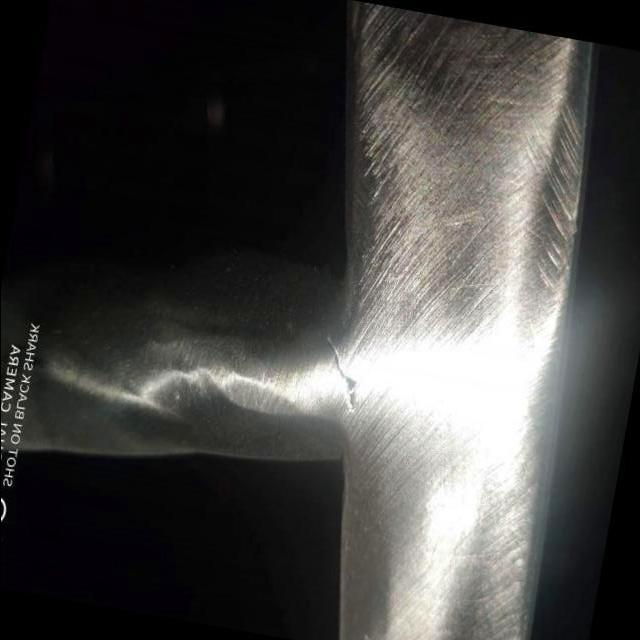defect: (324, 335, 358, 413)
